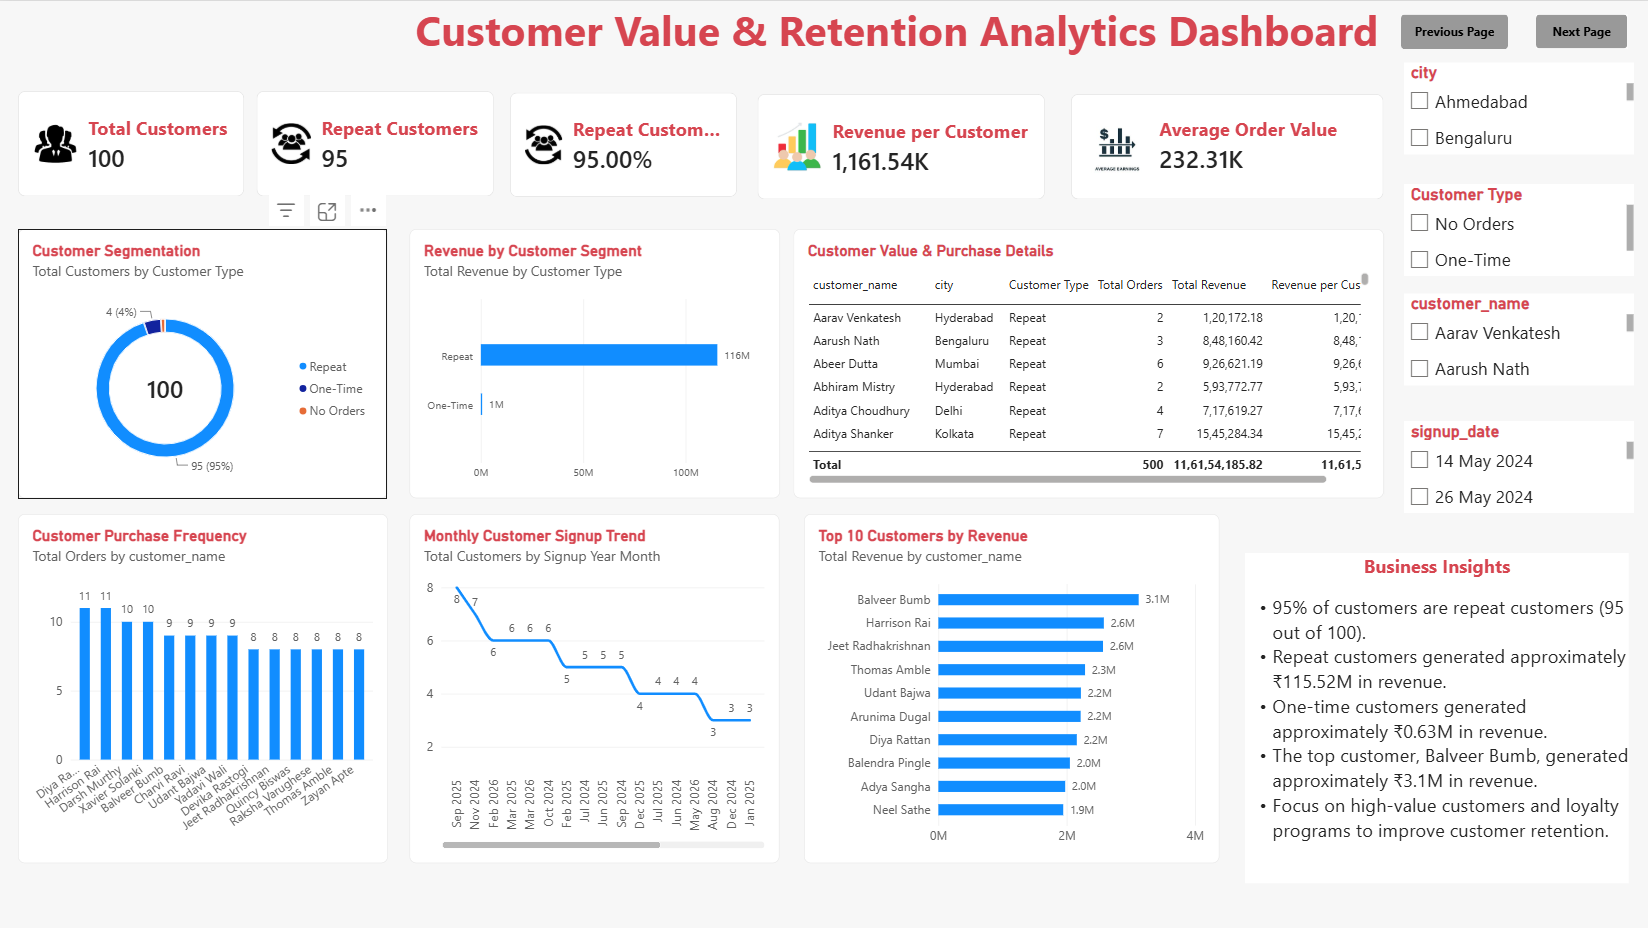

Layout of this report page (visuals, bound fields, positions):
{"tool":"powerbi","page":{"name":"Customer Value & Retention","canvas":[1920,1080],"ordinal":4},"visuals":[{"type":"textbox","box":[485.2,0,1127.2,71.1],"z":0},{"type":"cardVisual","fields":{"Data":["customers.Total Customers"]},"box":[23.7,104,262.6,122.2],"z":1000},{"type":"cardVisual","fields":{"Data":["customers.Repeat Customers"]},"box":[301,104,275.4,122.2],"z":2000},{"type":"cardVisual","fields":{"Data":["customers.Repeat Customer Rate"]},"box":[594.6,105.8,263.1,121.7],"z":3000},{"type":"cardVisual","fields":{"Data":["customers.Revenue per Customer"]},"box":[881,107.6,333.8,122.2],"z":4000},{"type":"cardVisual","fields":{"Data":["order_items.Average Order Value"]},"box":[1243.9,107.6,363,122.2],"z":5000},{"type":"donutChart","title":"Customer Segmentation","fields":{"Category":["customers.Customer Type"],"Y":["customers.Total Customers"]},"box":[23.7,264.5,428.6,311.9],"z":6000},{"type":"barChart","title":"Revenue by Customer Segment","fields":{"Category":["customers.Customer Type"],"Y":["order_items.Total Revenue"]},"box":[477.9,264.5,429,312],"z":7000},{"type":"clusteredBarChart","title":"Top 10 Customers by Revenue","fields":{"Category":["customers.customer_name"],"Y":["order_items.Total Revenue"]},"box":[935.7,594.6,481.5,404.9],"z":8000},{"type":"clusteredColumnChart","title":"Customer Purchase Frequency","fields":{"Category":["customers.customer_name"],"Y":["order_items.Total Orders"]},"box":[23.7,594.6,428.6,404.9],"z":9000},{"type":"lineChart","title":"Monthly Customer Signup Trend","fields":{"Category":["customers.Signup Year Month"],"Y":["customers.Total Customers"]},"box":[477.9,594.6,428.6,404.9],"z":10000},{"type":"tableEx","title":"Customer Value & Purchase Details","fields":{"Values":["customers.customer_name","customers.city","customers.Customer Type","order_items.Total Orders","order_items.Total Revenue","customers.Revenue per Customer"]},"box":[922.9,264.5,684,311.9],"z":11000},{"type":"slicer","fields":{"Values":["customers.city"]},"box":[1630.6,71.1,266.3,105.8],"z":12000},{"type":"slicer","fields":{"Values":["customers.Customer Type"]},"box":[1630.6,211.6,266.3,105.8],"z":12001},{"type":"slicer","fields":{"Values":["customers.customer_name"]},"box":[1630.6,339.3,266.3,105.8],"z":12002},{"type":"slicer","fields":{"Values":["customers.signup_date"]},"box":[1630.6,487,266.3,105.8],"z":12003},{"type":"textbox","box":[1446.1,639.6,445,382.4],"z":12004},{"type":"actionButton","box":[1627,16.4,124,40.1],"z":12005},{"type":"actionButton","box":[1783.8,16.4,105.7,39.4],"z":12006}]}

Visuals, with their boxes in screenshot pixels (x1, y1, x2, y2), scaled from the page's 1920x1080 canvas onto the 1648x928 screenshot:
textbox: region(416, 0, 1384, 61)
cardVisual - customers.Total Customers: region(20, 89, 246, 194)
cardVisual - customers.Repeat Customers: region(258, 89, 495, 194)
cardVisual - customers.Repeat Customer Rate: region(510, 91, 736, 195)
cardVisual - customers.Revenue per Customer: region(756, 92, 1043, 197)
cardVisual - order_items.Average Order Value: region(1068, 92, 1379, 197)
"Customer Segmentation" donutChart: region(20, 227, 388, 495)
"Revenue by Customer Segment" barChart: region(410, 227, 778, 495)
"Top 10 Customers by Revenue" clusteredBarChart: region(803, 511, 1216, 859)
"Customer Purchase Frequency" clusteredColumnChart: region(20, 511, 388, 859)
"Monthly Customer Signup Trend" lineChart: region(410, 511, 778, 859)
"Customer Value & Purchase Details" tableEx: region(792, 227, 1379, 495)
slicer - customers.city: region(1400, 61, 1628, 152)
slicer - customers.Customer Type: region(1400, 182, 1628, 273)
slicer - customers.customer_name: region(1400, 292, 1628, 382)
slicer - customers.signup_date: region(1400, 418, 1628, 509)
textbox: region(1241, 550, 1623, 878)
actionButton: region(1397, 14, 1503, 49)
actionButton: region(1531, 14, 1622, 48)
